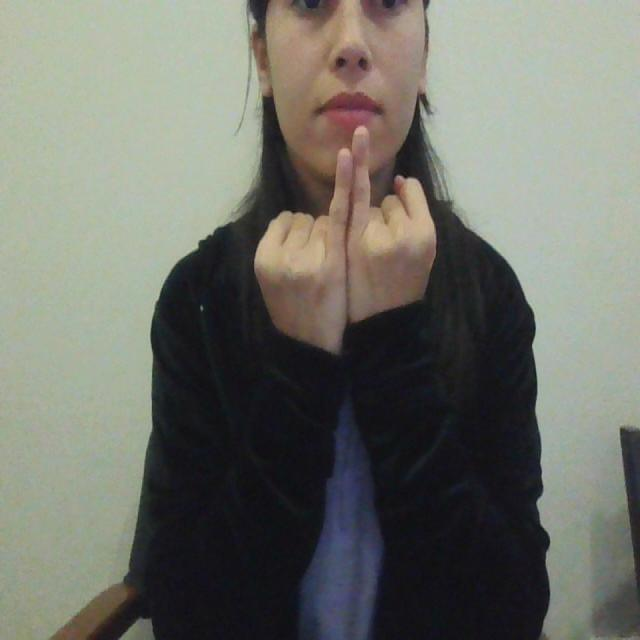Kardes: (249, 119, 442, 359)
